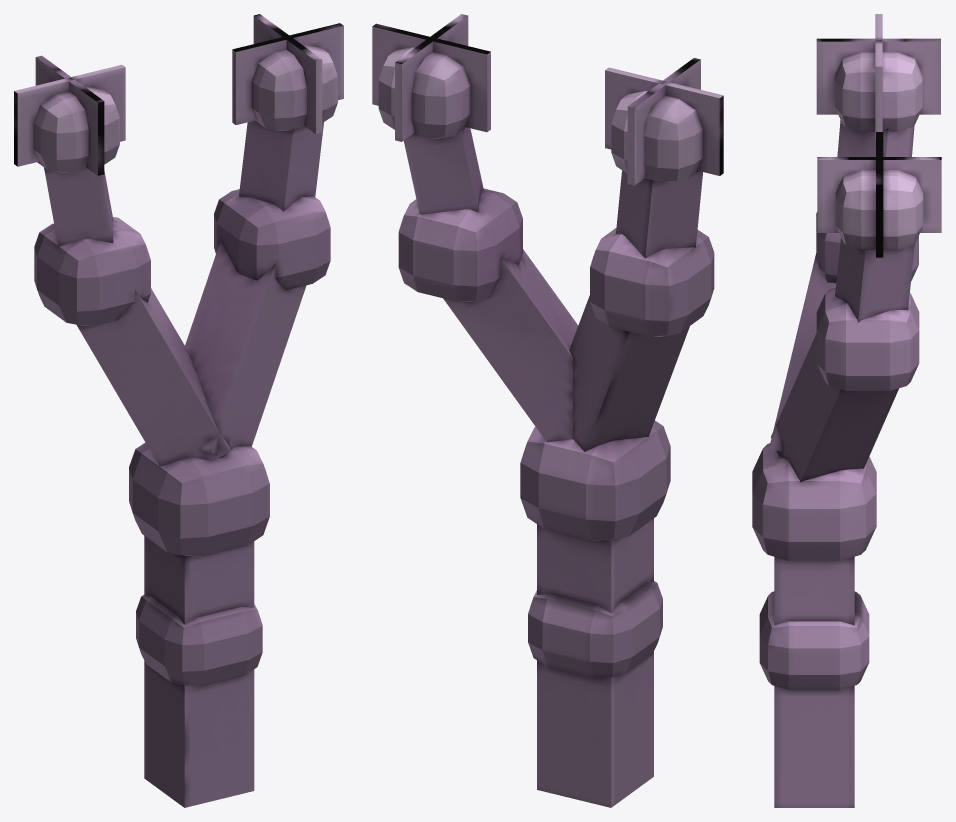
The model's file is chorus.glb.
The picture shows the model from 3 angles, left to right: view 1: azimuth 30°, elevation 25°; view 2: azimuth 150°, elevation 25°; view 3: azimuth 270°, elevation 25°; orthographic projection. The views are drawn at different scales.
Visible parts, largest first — view 1: chorus; view 2: chorus; view 3: chorus.
Boxes of the visible parts, x1=… form: chorus: x1=14, y1=14, x2=343, y2=807; chorus: x1=372, y1=14, x2=723, y2=807; chorus: x1=752, y1=14, x2=941, y2=807.
Bounding box in the file's own units: 1.03 × 2.12 × 0.5181.
Materials: 2 (2 with a texture image).
